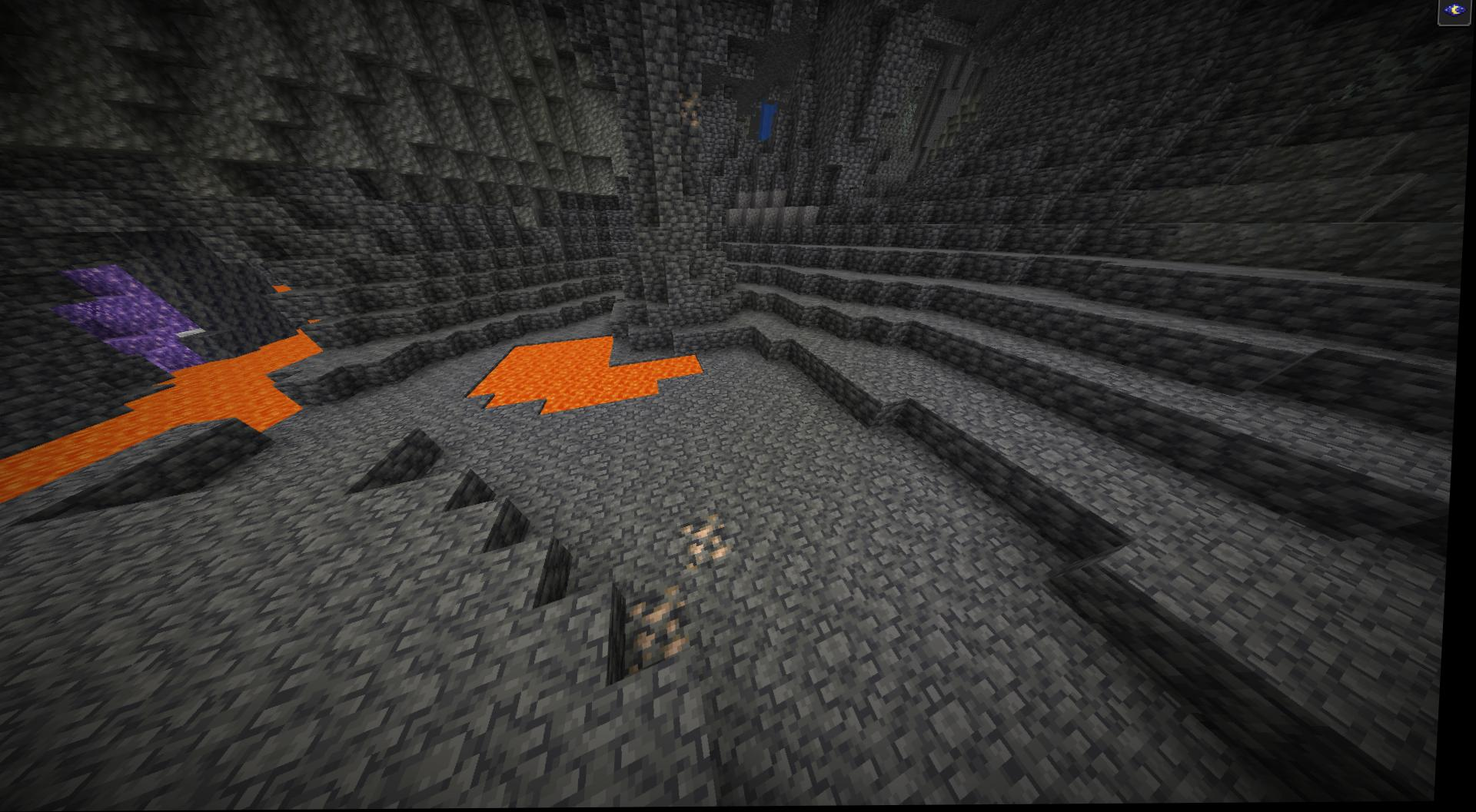iron ore: (622, 586, 704, 677), (686, 518, 739, 576), (673, 91, 709, 133)
